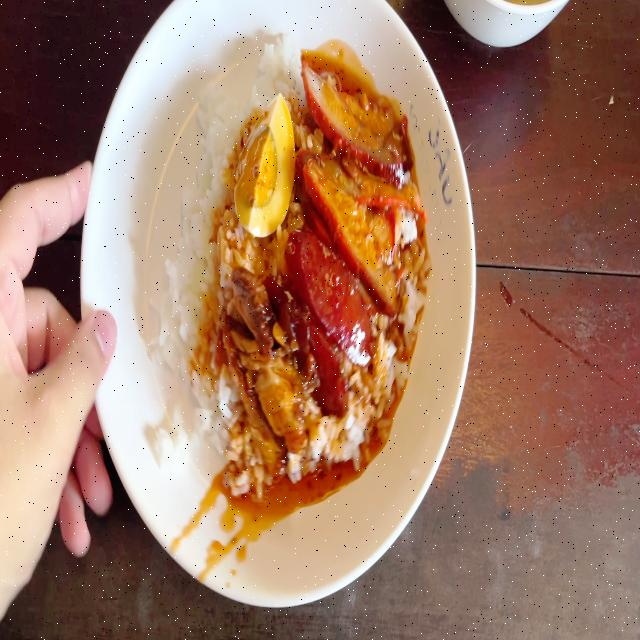boiled_egg: (242, 108, 290, 228)
chainese_sausage: (283, 260, 374, 382)
crispy_pork: (231, 354, 315, 459), (232, 274, 271, 371)
red_pork: (309, 80, 414, 259)
red_pork_and_crispy_pork: (178, 51, 414, 464)
rice: (149, 214, 228, 446), (194, 93, 235, 202), (244, 36, 287, 104)
